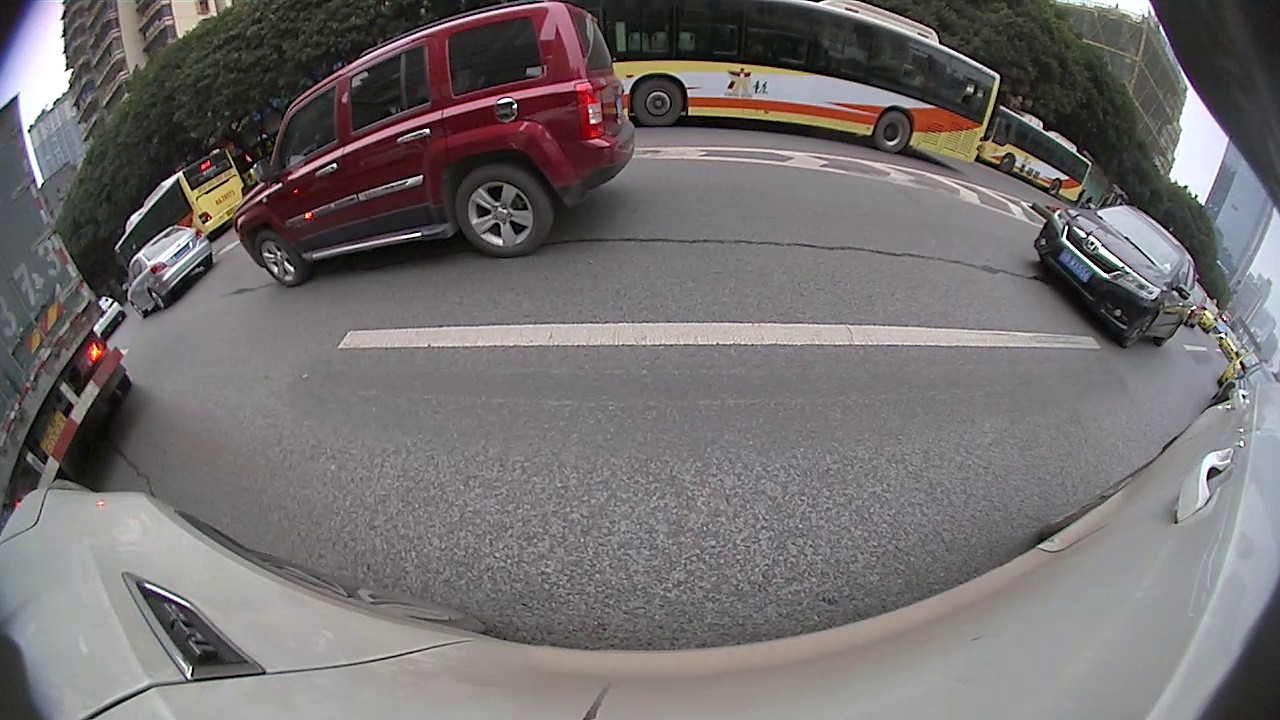bus: (571, 1, 1003, 167), (117, 147, 248, 259), (983, 102, 1091, 209)
car: (238, 3, 637, 290), (1037, 200, 1202, 351), (126, 222, 216, 316)
front: (634, 75, 686, 129), (256, 226, 301, 285), (1124, 308, 1151, 352), (1001, 152, 1017, 173)
rear: (456, 161, 552, 256), (875, 104, 912, 153), (150, 288, 163, 310), (1050, 177, 1061, 197)
truck: (2, 89, 132, 507)
